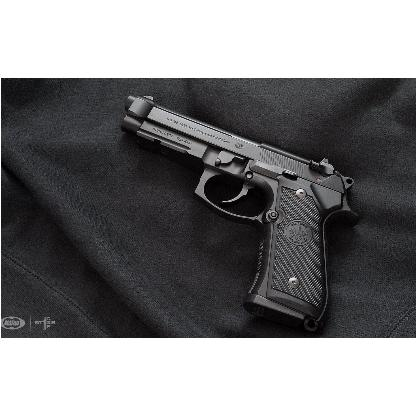gun: (114, 92, 354, 328)
